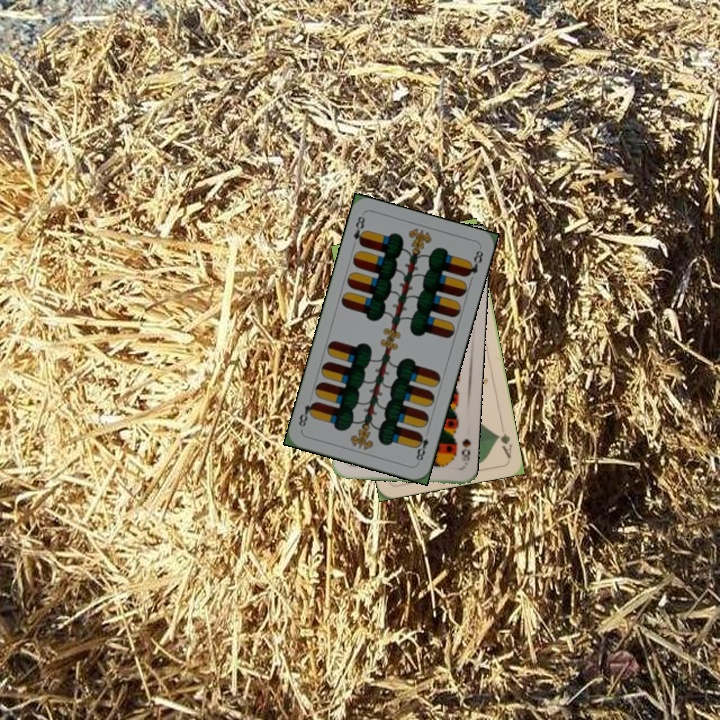E8: (349, 212, 369, 249), (412, 429, 431, 465)
GA: (493, 429, 515, 460)
S8: (458, 435, 473, 469)
